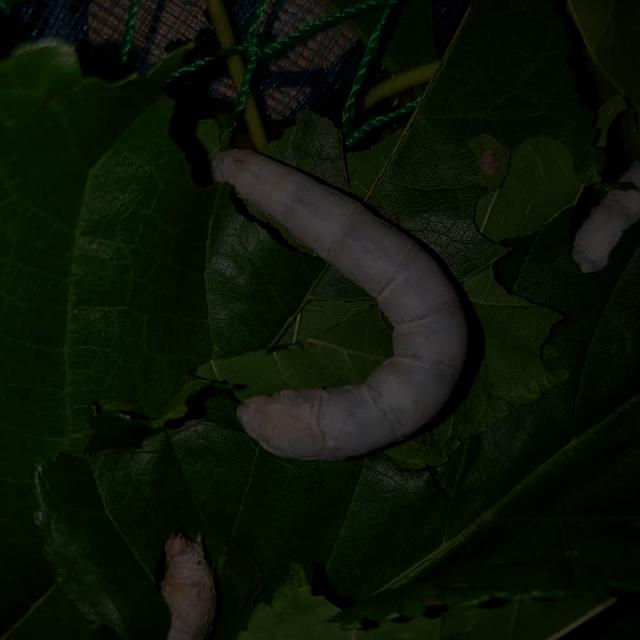Healthy: (182, 129, 501, 481)
